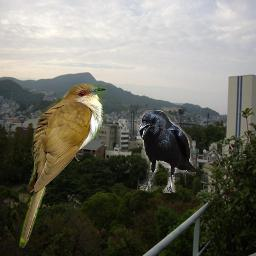Crow: (137, 110, 196, 193)
Cuckoo: (18, 83, 107, 248)
